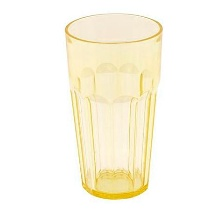glass: (53, 9, 172, 203)
